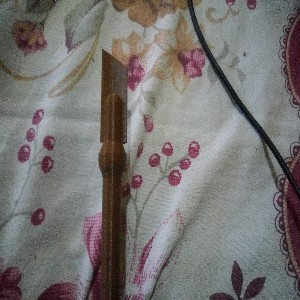cutter: (97, 48, 129, 300)
